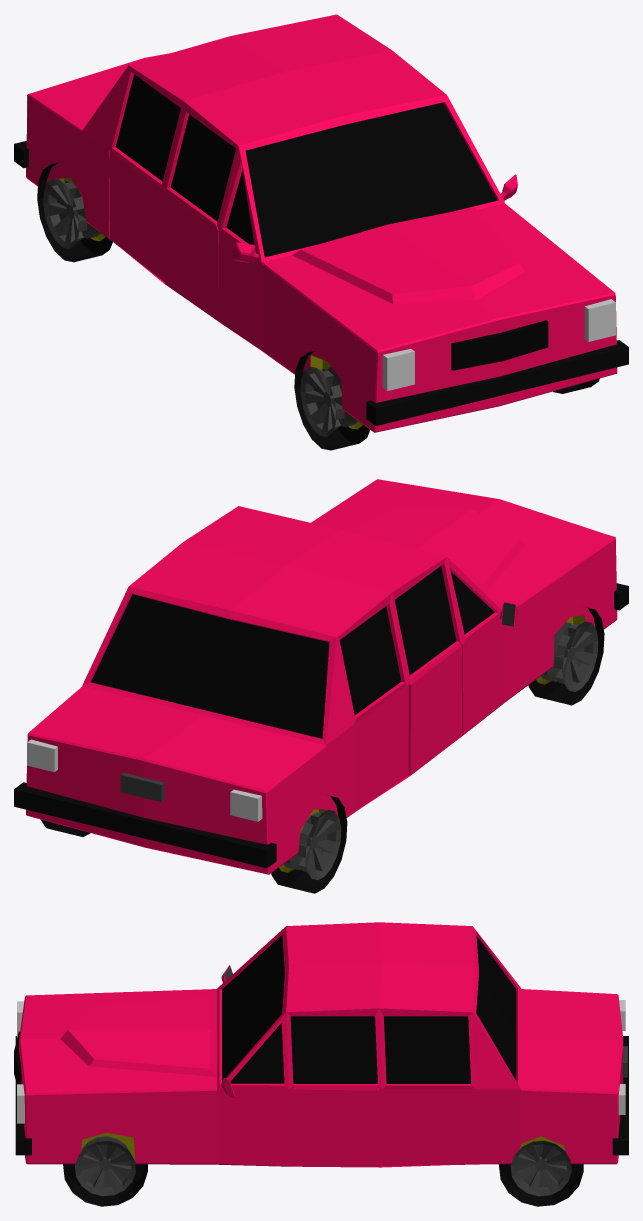
Rendered from car_2_pink.obj.
3 renders of one model, top to bottom at view 1: azimuth 30°, elevation 25°; view 2: azimuth 150°, elevation 25°; view 3: azimuth 270°, elevation 25°, orthographic. The views are drawn at different scales.
Visible parts, largest first — view 1: Cube.001; view 2: Cube.001; view 3: Cube.001.
Boxes of the visible parts, box(x1,y1,x2,y2) form: Cube.001: box(14, 14, 628, 450); Cube.001: box(14, 479, 628, 893); Cube.001: box(14, 922, 628, 1206).
Size of the model in its own units: 1.51 by 1.14 by 3.36.
